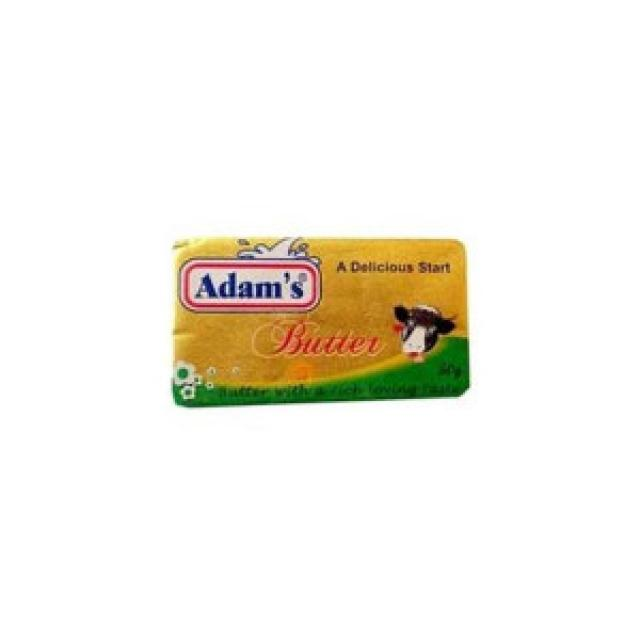butter: (168, 232, 470, 406)
